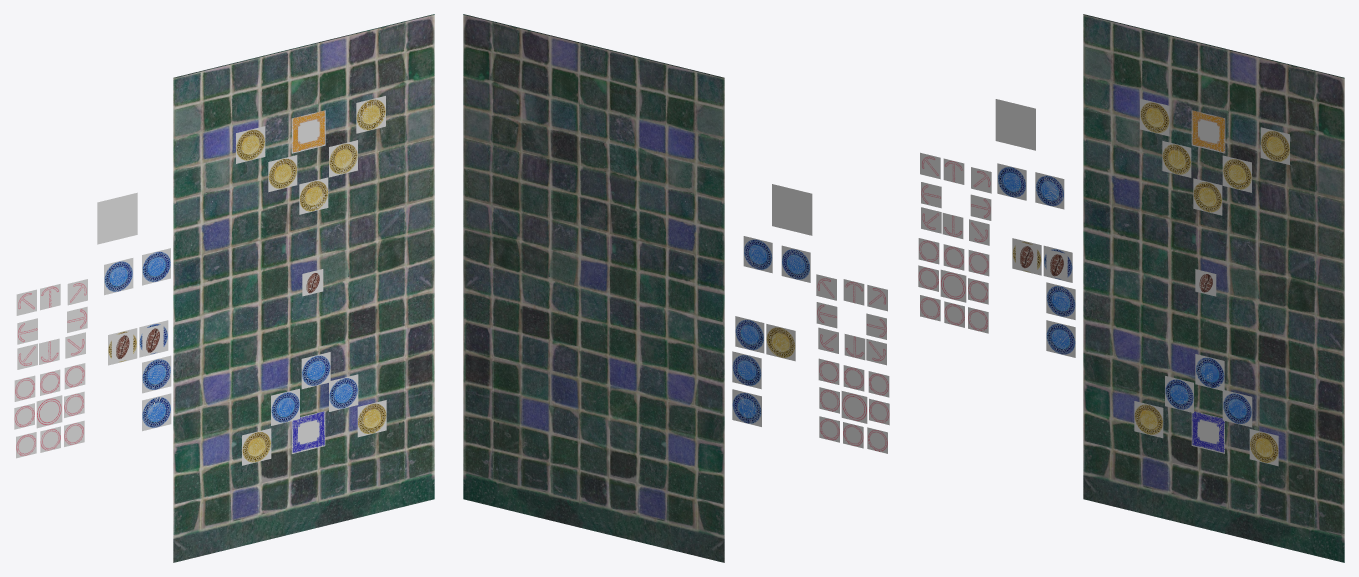
Rendered from Board10Scene.dae.
3 views of the same model, side by side, from view 1: azimuth 30°, elevation 25°; view 2: azimuth 150°, elevation 25°; view 3: azimuth 330°, elevation 25° (orthographic).
Parts seen in each view (by area): view 1: Board03, Transparent, RedHome, BlueHome, Blue07, Red07, Red06, Blue06, Blue03, Red01, Blue01, Red04 (+9 smaller); view 2: Board03, Transparent, Blue06, Blue07, BlueBeanObject, RedBeanObject, Blue05, Blue04, YellowFlare; view 3: Board03, Transparent, RedHome, BlueHome, Blue03, Blue07, Red06, Red07, Blue06, Red01, Red03, Blue04 (+9 smaller).
Part boxes in pixels (<box>): Board03: <box>173,14,434,562</box>; Transparent: <box>97,192,137,244</box>; RedHome: <box>291,110,325,153</box>; BlueHome: <box>291,411,325,453</box>; Blue07: <box>142,393,171,431</box>; Red07: <box>356,96,385,133</box>; Red06: <box>236,126,265,163</box>; Blue06: <box>142,355,171,393</box>; Blue03: <box>329,374,358,411</box>; Red01: <box>299,177,328,214</box>; Blue01: <box>301,352,330,389</box>; Red04: <box>242,428,271,465</box>; Board03: <box>463,14,724,562</box>; Transparent: <box>772,184,812,235</box>; Blue06: <box>732,351,761,389</box>; Blue07: <box>732,389,761,426</box>; BlueBeanObject: <box>735,316,764,353</box>; RedBeanObject: <box>766,324,795,361</box>; Blue05: <box>781,245,810,282</box>; Blue04: <box>743,236,772,273</box>; YellowFlare: <box>841,391,867,423</box>; Board03: <box>1083,14,1344,562</box>; Transparent: <box>995,99,1035,150</box>; RedHome: <box>1191,110,1225,153</box>; BlueHome: <box>1191,411,1224,453</box>; Blue03: <box>1222,389,1252,427</box>; Blue07: <box>1046,320,1075,357</box>; Red06: <box>1140,98,1169,136</box>; Red07: <box>1260,127,1289,164</box>; Blue06: <box>1046,282,1075,319</box>; Red01: <box>1193,178,1222,215</box>; Red03: <box>1222,155,1251,192</box>; Blue04: <box>1035,172,1064,209</box>.
Bounding box in the file's own units: 58.99 × 2.16 × 64.61.
11 materials, 11 textured.
